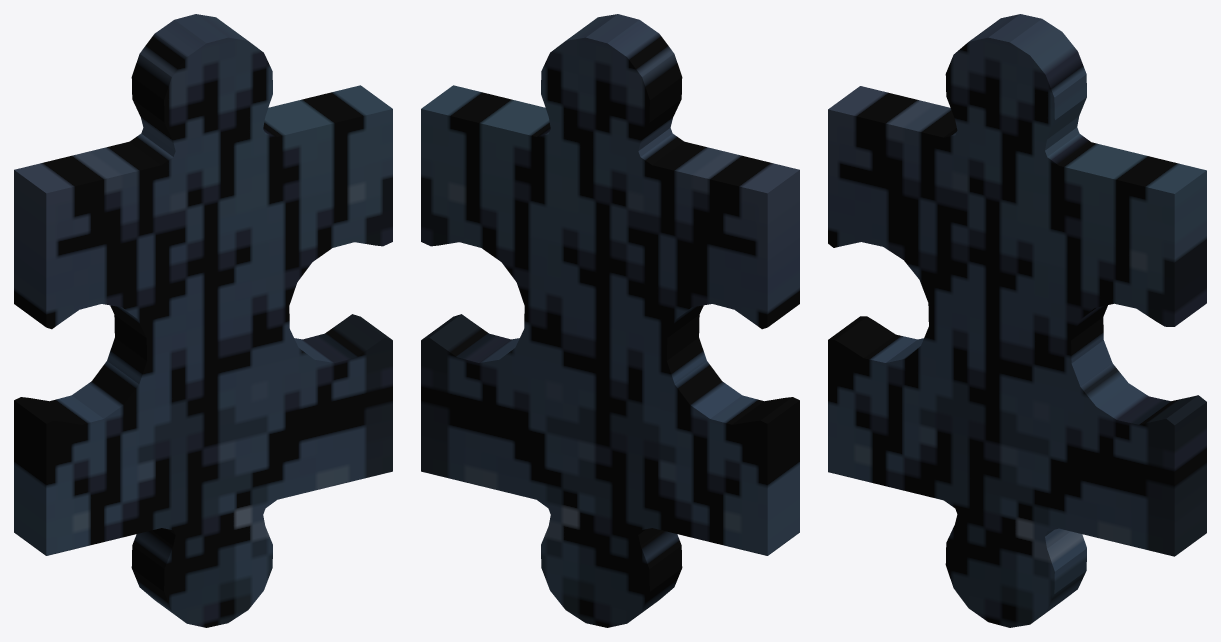
File: Piece_1_002.fbx
The picture shows the model from 3 angles, left to right: view 1: azimuth 30°, elevation 25°; view 2: azimuth 150°, elevation 25°; view 3: azimuth 330°, elevation 25°; orthographic projection.
Visible parts, largest first — view 1: Piece 1.002; view 2: Piece 1.002; view 3: Piece 1.002.
Boxes of the visible parts, <box> form: Piece 1.002: <box>14,14,392,627</box>; Piece 1.002: <box>421,14,799,627</box>; Piece 1.002: <box>828,14,1206,627</box>.
Size of the model in its own units: 80.52 by 130 by 12.98.
